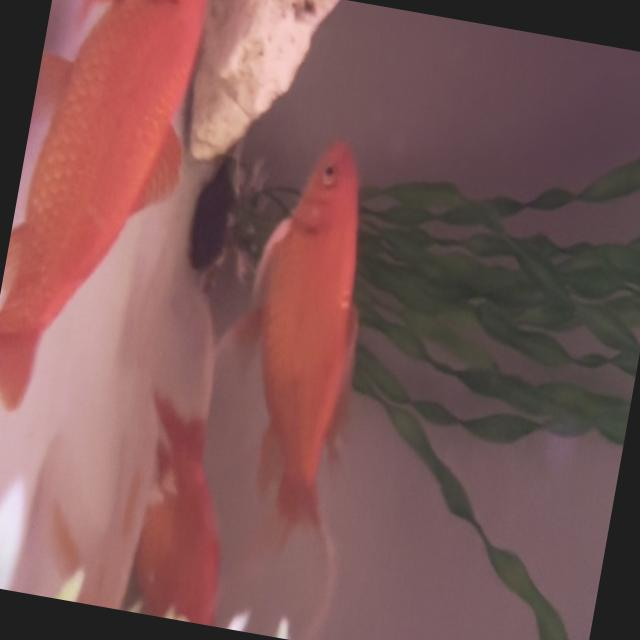fish: (0, 0, 218, 439), (196, 130, 397, 582), (112, 385, 256, 627)
